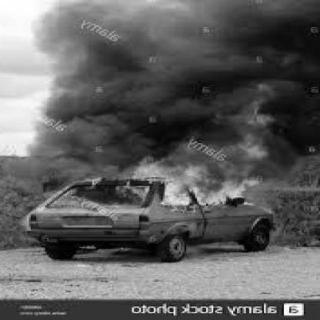Fire: (32, 85, 310, 217)
Smoke: (15, 0, 320, 162)
